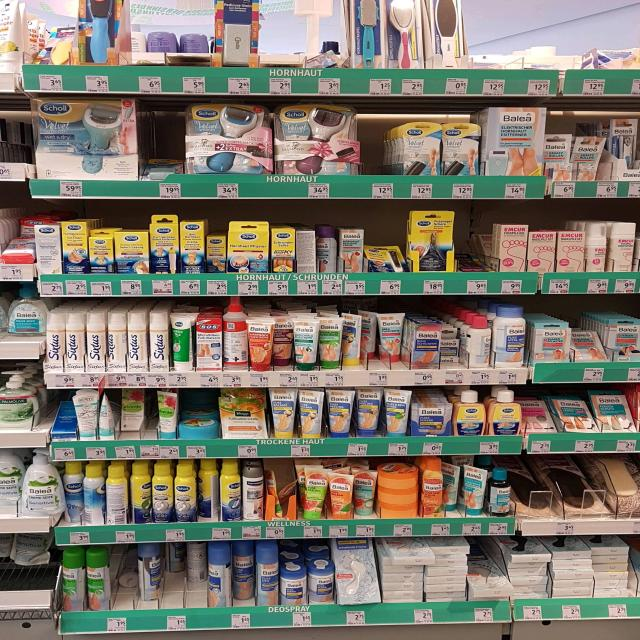empty_space: (480, 10, 621, 62), (362, 111, 387, 171), (148, 119, 177, 163), (463, 217, 488, 268)
